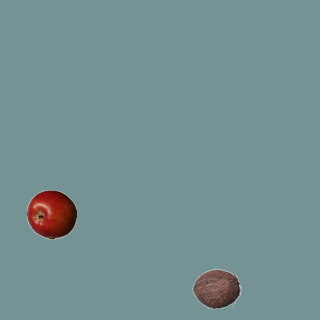Apple Braeburn: (26, 189, 76, 239)
Cocos: (191, 263, 241, 313)
